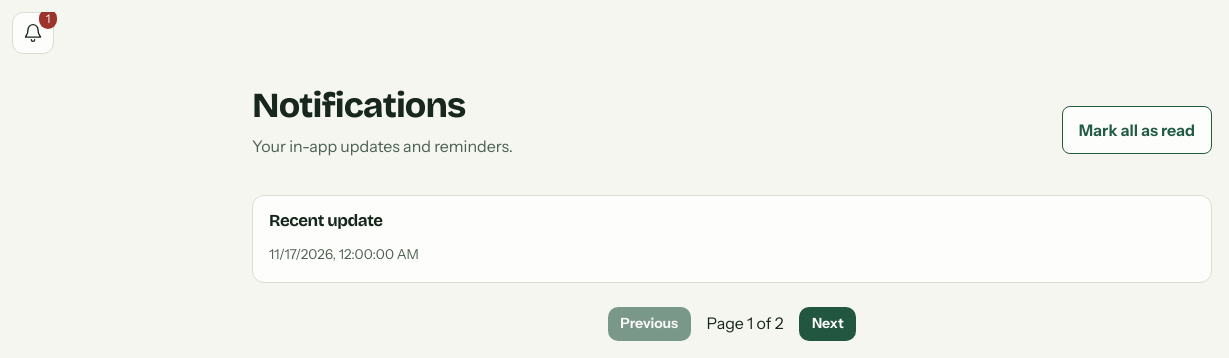
Test case: members can reach older notifications and the bell updates after marking all read
The width and height of the screenshot is (1229, 358).
Expected: the button named "Notifications, 1 unread" is shown, x1=12 y1=12 x2=54 y2=54
Expected: the heading "Recent update" is shown, x1=269 y1=210 x2=383 y2=231
Click the button "Next": [828, 324] box x1=799 y1=307 x2=856 y2=341
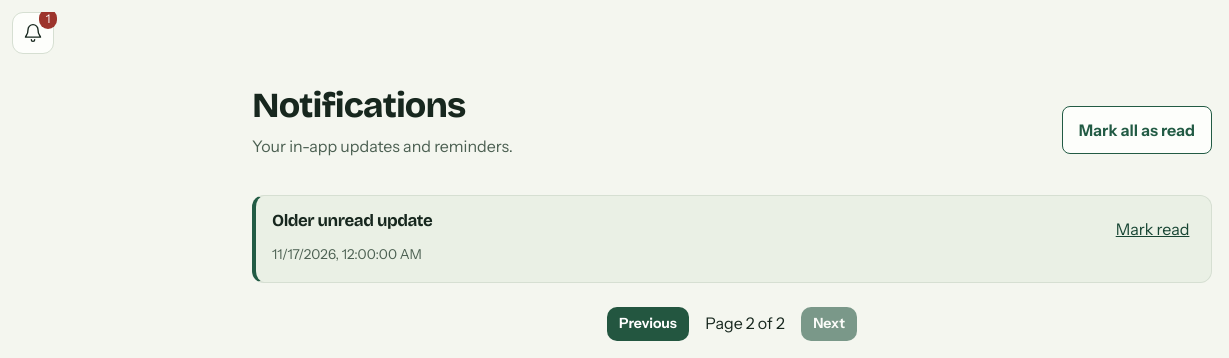
Now the heading "Older unread update" is shown, box x1=272 y1=212 x2=432 y2=231
Click the button "Mark all as read": [1137, 130] box x1=1062 y1=106 x2=1212 y2=154
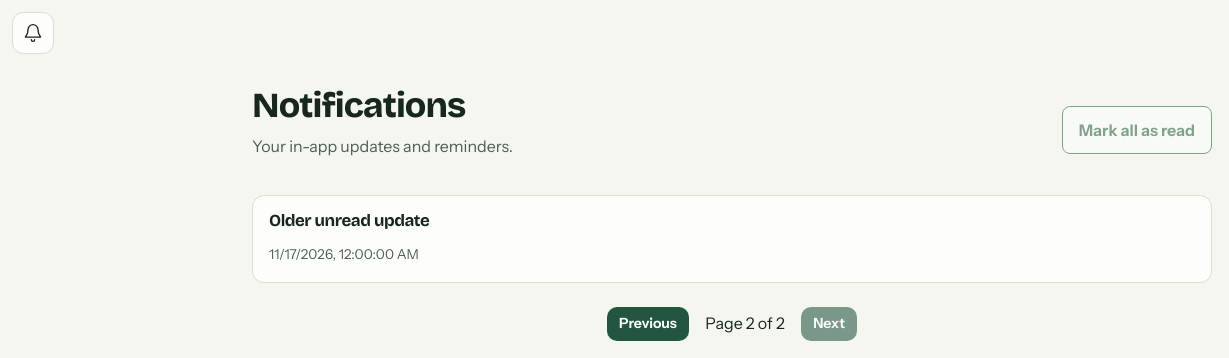
Expected: the button named "Notifications" is shown, x1=12 y1=12 x2=54 y2=54
Now the button "Mark all as read" is disabled, box x1=1062 y1=106 x2=1212 y2=154
